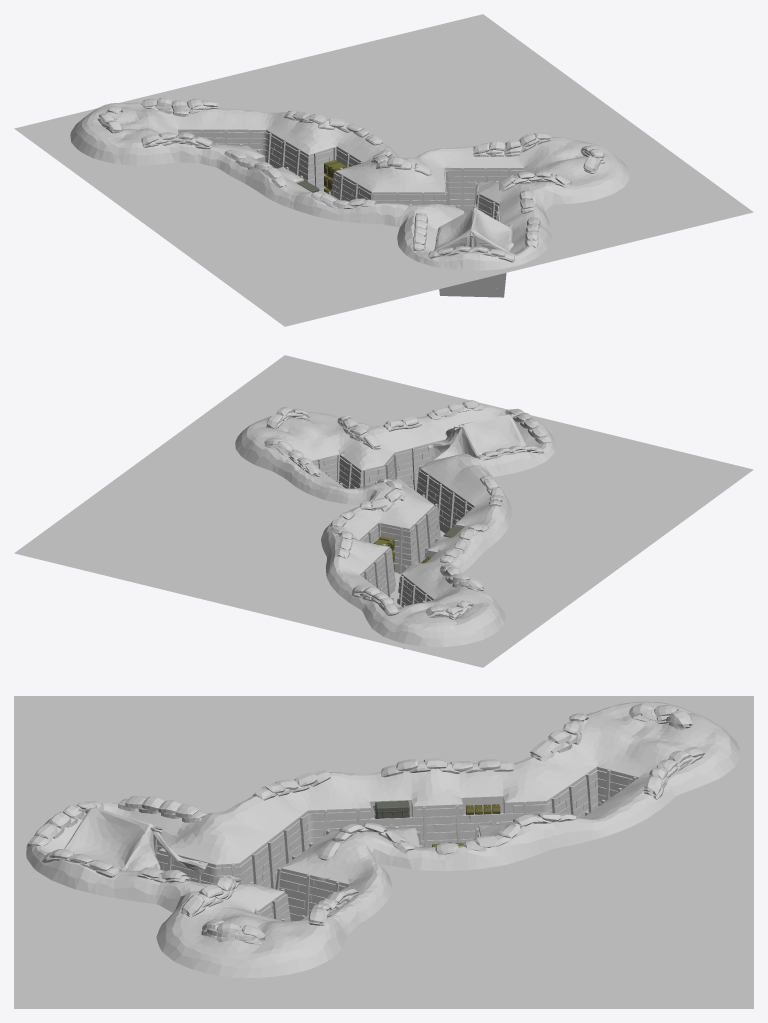
File: Trench_03.fbx
The picture shows the model from 3 angles, top to bottom: view 1: azimuth 30°, elevation 25°; view 2: azimuth 150°, elevation 25°; view 3: azimuth 270°, elevation 25°; orthographic projection. The views are drawn at different scales.
Parts seen in each view (by area): view 1: Trench_ground_03, Trench_03, Trench_tent_03, Trench_AB_03; view 2: Trench_ground_03, Trench_03, Trench_tent_03; view 3: Trench_ground_03, Trench_03, Trench_tent_03, Trench_AB_03.
Part boxes in pixels (left/top/right/bottom): Trench_ground_03: left=14, top=14, right=753, bottom=326; Trench_03: left=70, top=97, right=629, bottom=297; Trench_tent_03: left=434, top=204, right=513, bottom=252; Trench_AB_03: left=297, top=160, right=347, bottom=193; Trench_ground_03: left=14, top=355, right=753, bottom=667; Trench_03: left=235, top=400, right=556, bottom=649; Trench_tent_03: left=428, top=414, right=526, bottom=460; Trench_ground_03: left=14, top=696, right=753, bottom=1008; Trench_03: left=26, top=701, right=740, bottom=977; Trench_tent_03: left=64, top=806, right=207, bottom=875; Trench_AB_03: left=373, top=800, right=500, bottom=846.
Size of the model in its own units: 591 by 82.22 by 591.
